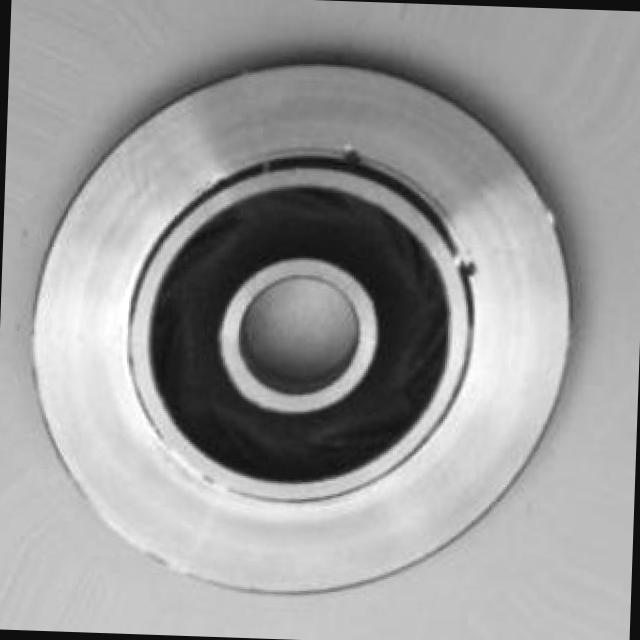Defect: (450, 243, 485, 290)
